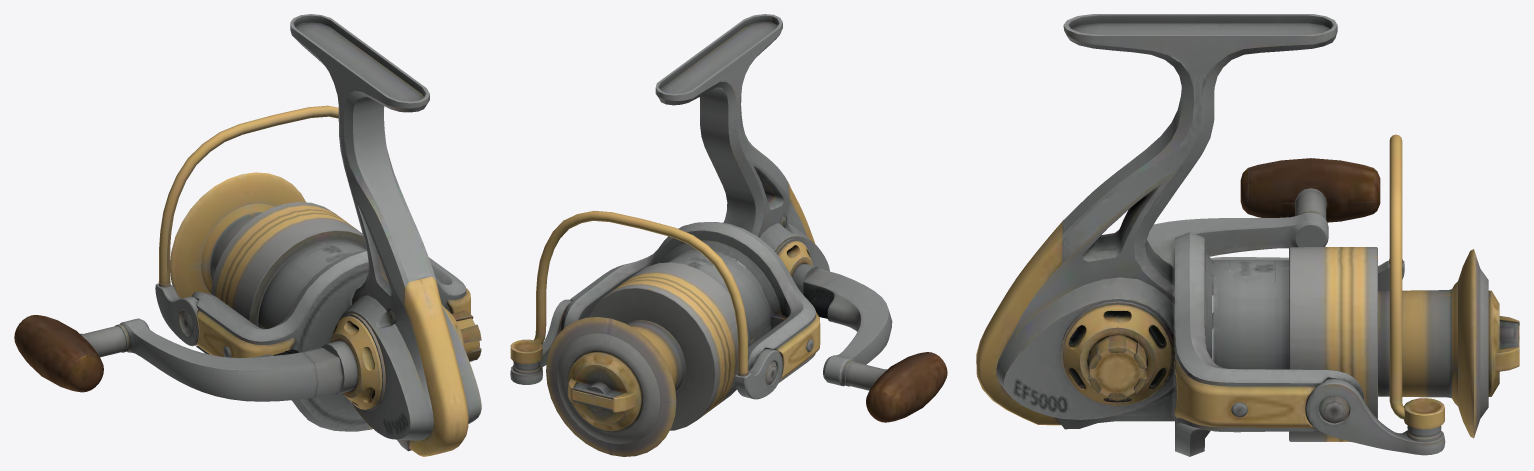
File: molen.glb
3 views of the same model, side by side, from view 1: azimuth 30°, elevation 25°; view 2: azimuth 150°, elevation 25°; view 3: azimuth 270°, elevation 25° (orthographic). The views are drawn at different scales.
Parts seen in each view (by area): view 1: Spinning Reel; view 2: Spinning Reel; view 3: Spinning Reel.
Boxes of the visible parts, left/top/right/bottom form: Spinning Reel: left=14, top=14, right=481, bottom=456; Spinning Reel: left=510, top=14, right=947, bottom=456; Spinning Reel: left=976, top=14, right=1519, bottom=456.
Bounding box in the file's own units: 1.01 × 0.8715 × 1.02.
1 material, 1 textured.
